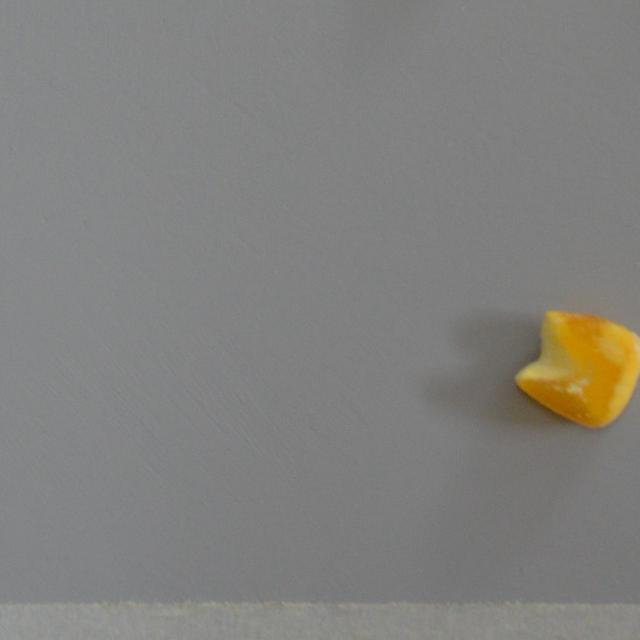pelicula: (514, 308, 640, 431)
